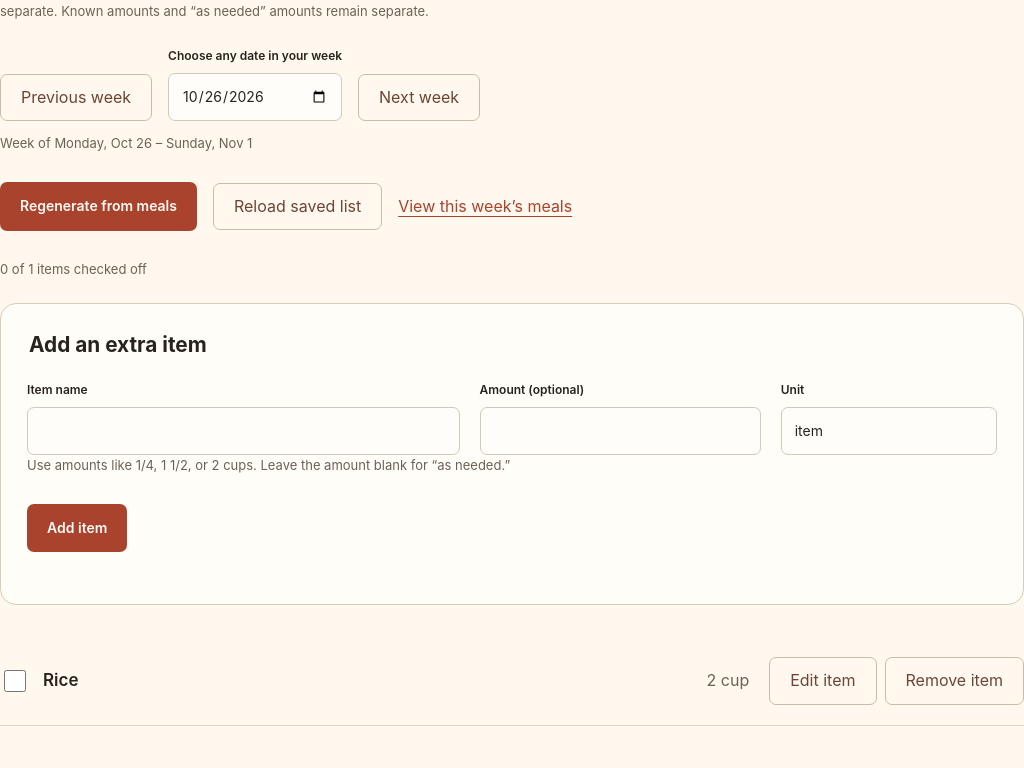
Test: checkmarks only change on success and deletion requires confirmation
(page scrolled)
Click the checkbox at {"x": 15, "y": 681}, box [4, 670, 26, 692]
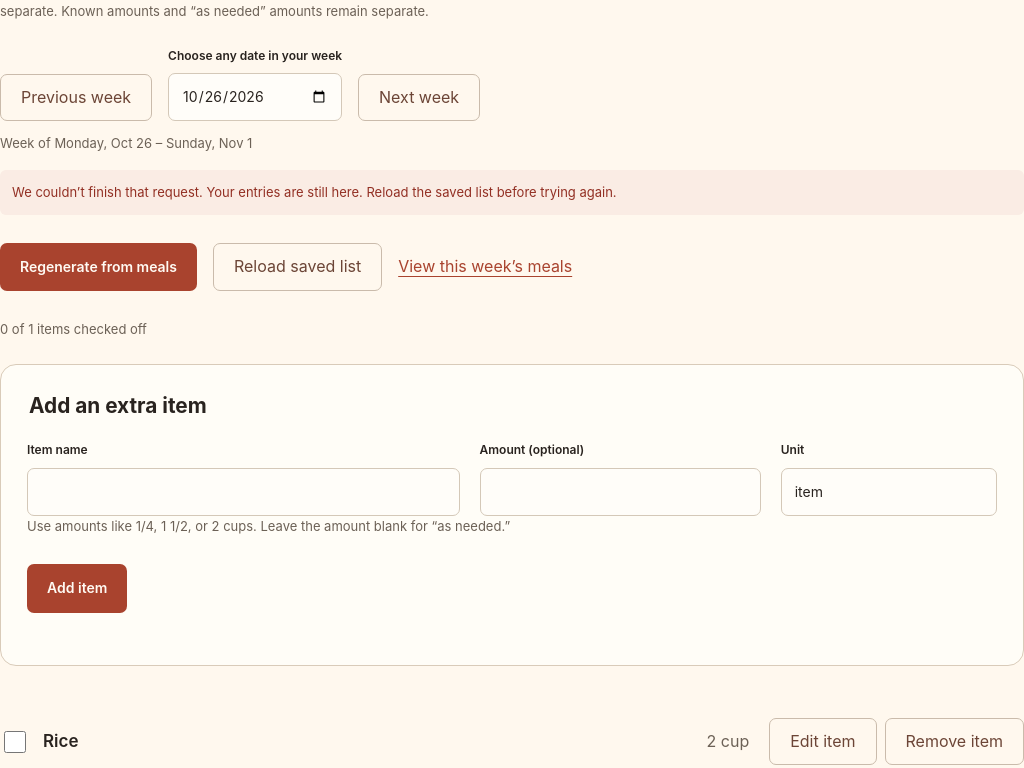
Click the checkbox at {"x": 15, "y": 742}, box [4, 731, 26, 753]
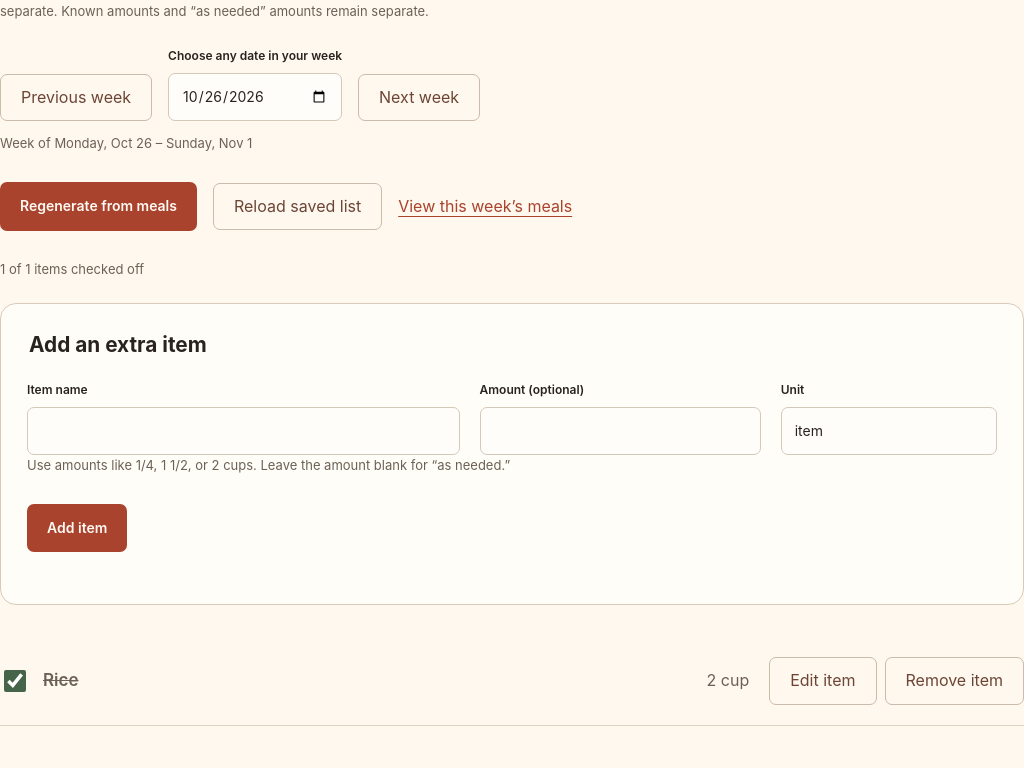
Check: the checkbox is checked, box [4, 670, 26, 692]
Click the button "Remove item" at {"x": 954, "y": 681}, box [884, 657, 1023, 705]
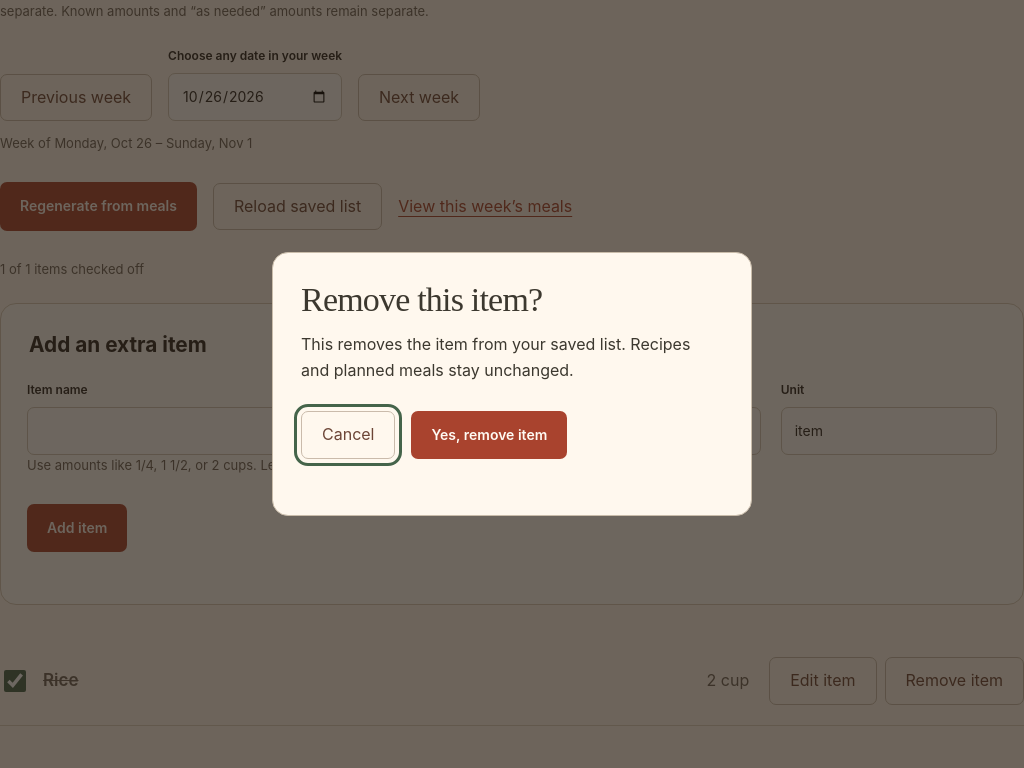
Click the button "Cancel" at {"x": 348, "y": 435}, box [301, 412, 396, 459]
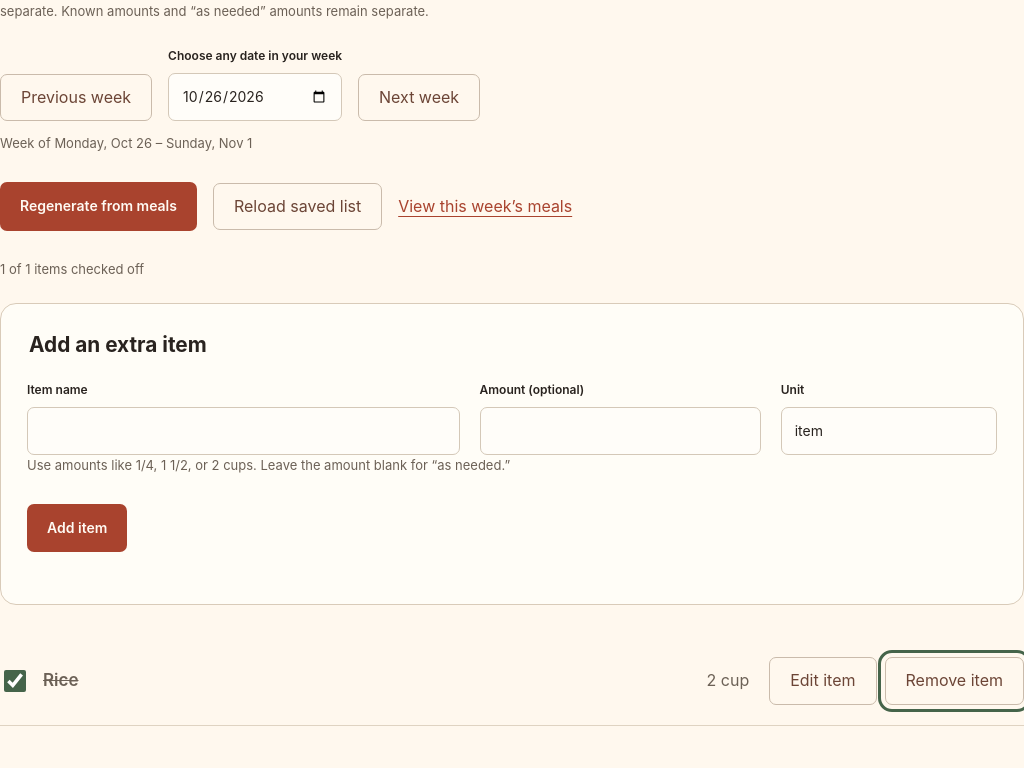
Click the button "Remove item" at {"x": 954, "y": 681}, box [884, 657, 1023, 705]
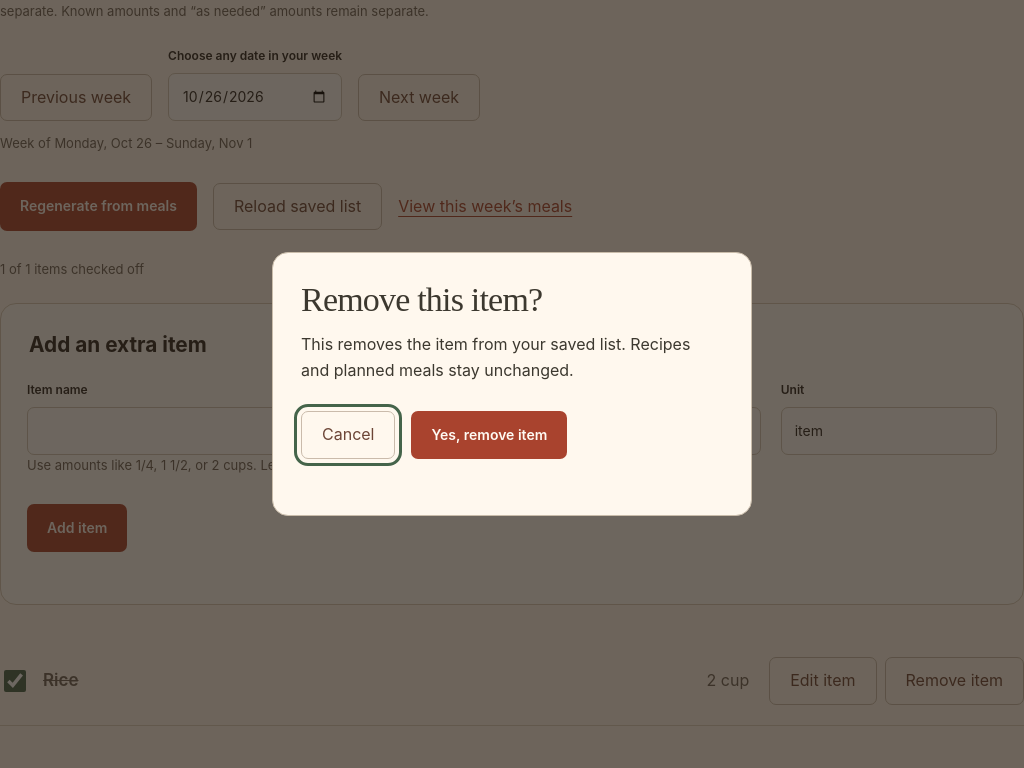
Click the button "Yes, remove item" at {"x": 489, "y": 435}, box [412, 411, 567, 460]
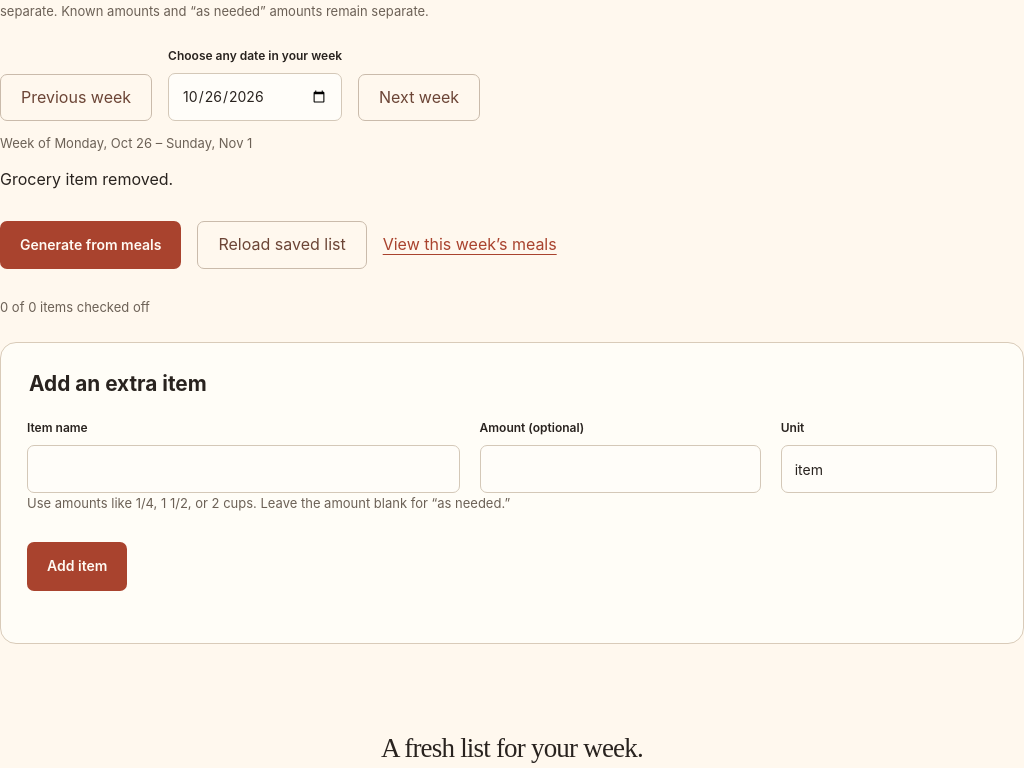
Check: the text "Grocery item removed." is shown, box [0, 169, 173, 189]
Check: the checkbox is gone
